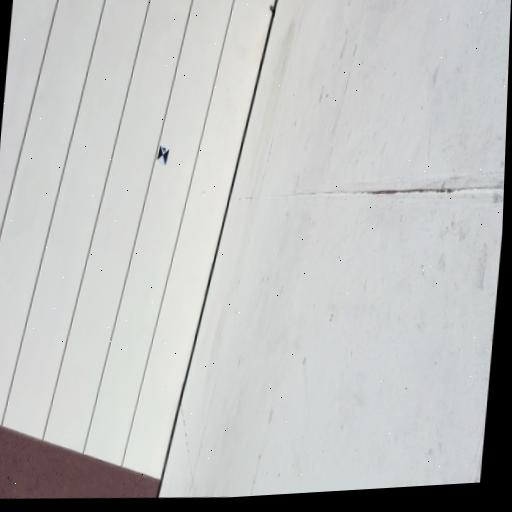target4: (156, 145, 170, 165)
